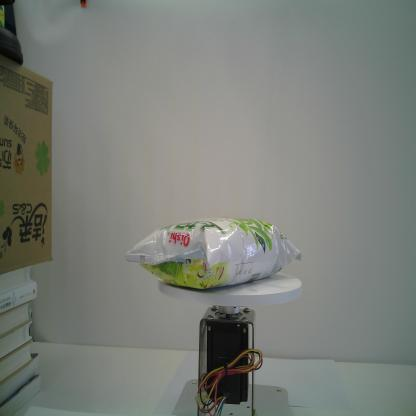Puffed Food: (124, 215, 303, 291)
